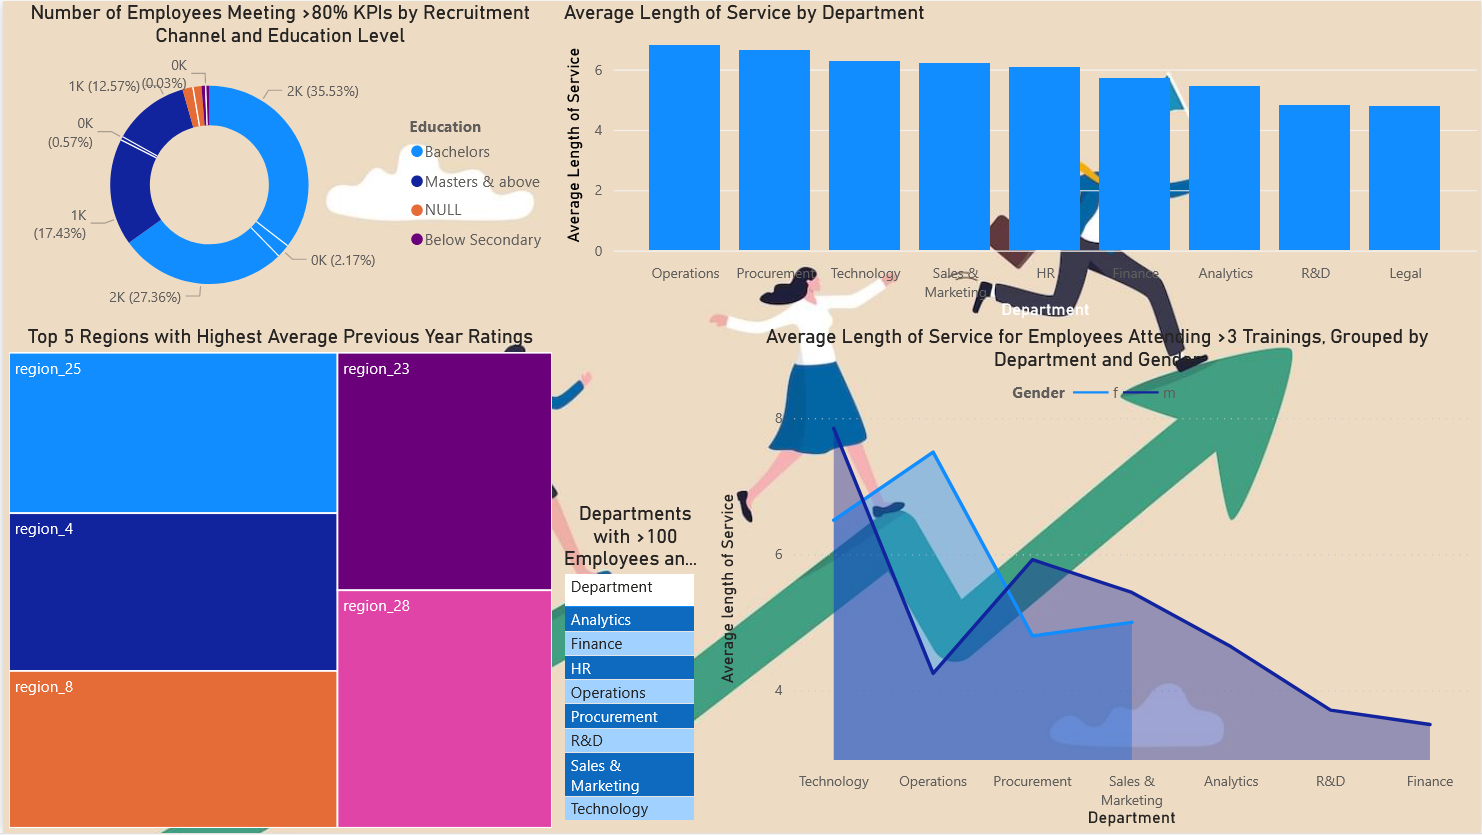

What the dashboard file says about the page in this screenshot:
{"tool":"powerbi","page":{"name":"Page 2","canvas":[1280,720],"ordinal":1},"visuals":[{"type":"donutChart","title":"Number of Employees Meeting >80% KPIs by Recruitment Channel and Education Level","fields":{"Category":["4.education"],"Y":["Sum(4.num_employees)"],"Series":["4.recruitment_channel"]},"box":[0,0,479.9,279.7],"z":0},{"type":"clusteredColumnChart","fields":{"Y":["Sum(5.average_length_of_service)"],"Category":["5.department"]},"box":[479.9,0,800.7,279.7],"z":1},{"type":"treemap","title":"Top 5 Regions with Highest Average Previous Year Ratings","fields":{"Group":["6.region"],"Values":["Sum(6.average_previous_year_rating)"]},"box":[0,279.7,479.9,440.1],"z":2},{"type":"tableEx","title":"Departments with >100 Employees and Service >5 Years","fields":{"Values":["7.Column1"]},"box":[480.2,434.3,133.6,285.3],"z":3},{"type":"areaChart","title":"Average Length of Service for Employees Attending >3 Trainings, Grouped by Department and Gender","fields":{"Category":["8.department"],"Y":["Sum(8.average_length_of_service)"],"Series":["8.gender"]},"box":[613.8,279.8,666.7,439.8],"z":4}]}

Visuals, with their boxes in screenshot pixels (x1, y1, x2, y2), scaled from the page's 1280x720 canvas onto the 1482x835 screenshot:
"Number of Employees Meeting >80% KPIs by Recruitment Channel and Education Level" donutChart: detection(0, 0, 556, 324)
clusteredColumnChart - Sum(5.average_length_of_service) x 5.department: detection(556, 0, 1481, 324)
"Top 5 Regions with Highest Average Previous Year Ratings" treemap: detection(0, 324, 556, 834)
"Departments with >100 Employees and Service >5 Years" tableEx: detection(556, 504, 711, 834)
"Average Length of Service for Employees Attending >3 Trainings, Grouped by Department and Gender" areaChart: detection(711, 324, 1481, 834)
